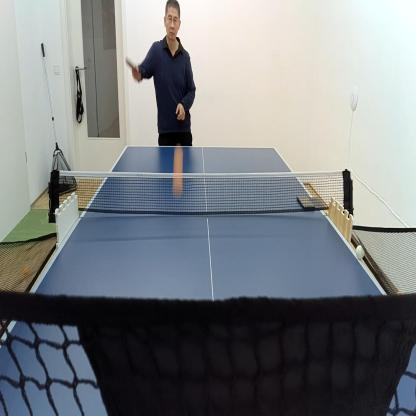Ball: (172, 143, 184, 198), (355, 242, 366, 260)
